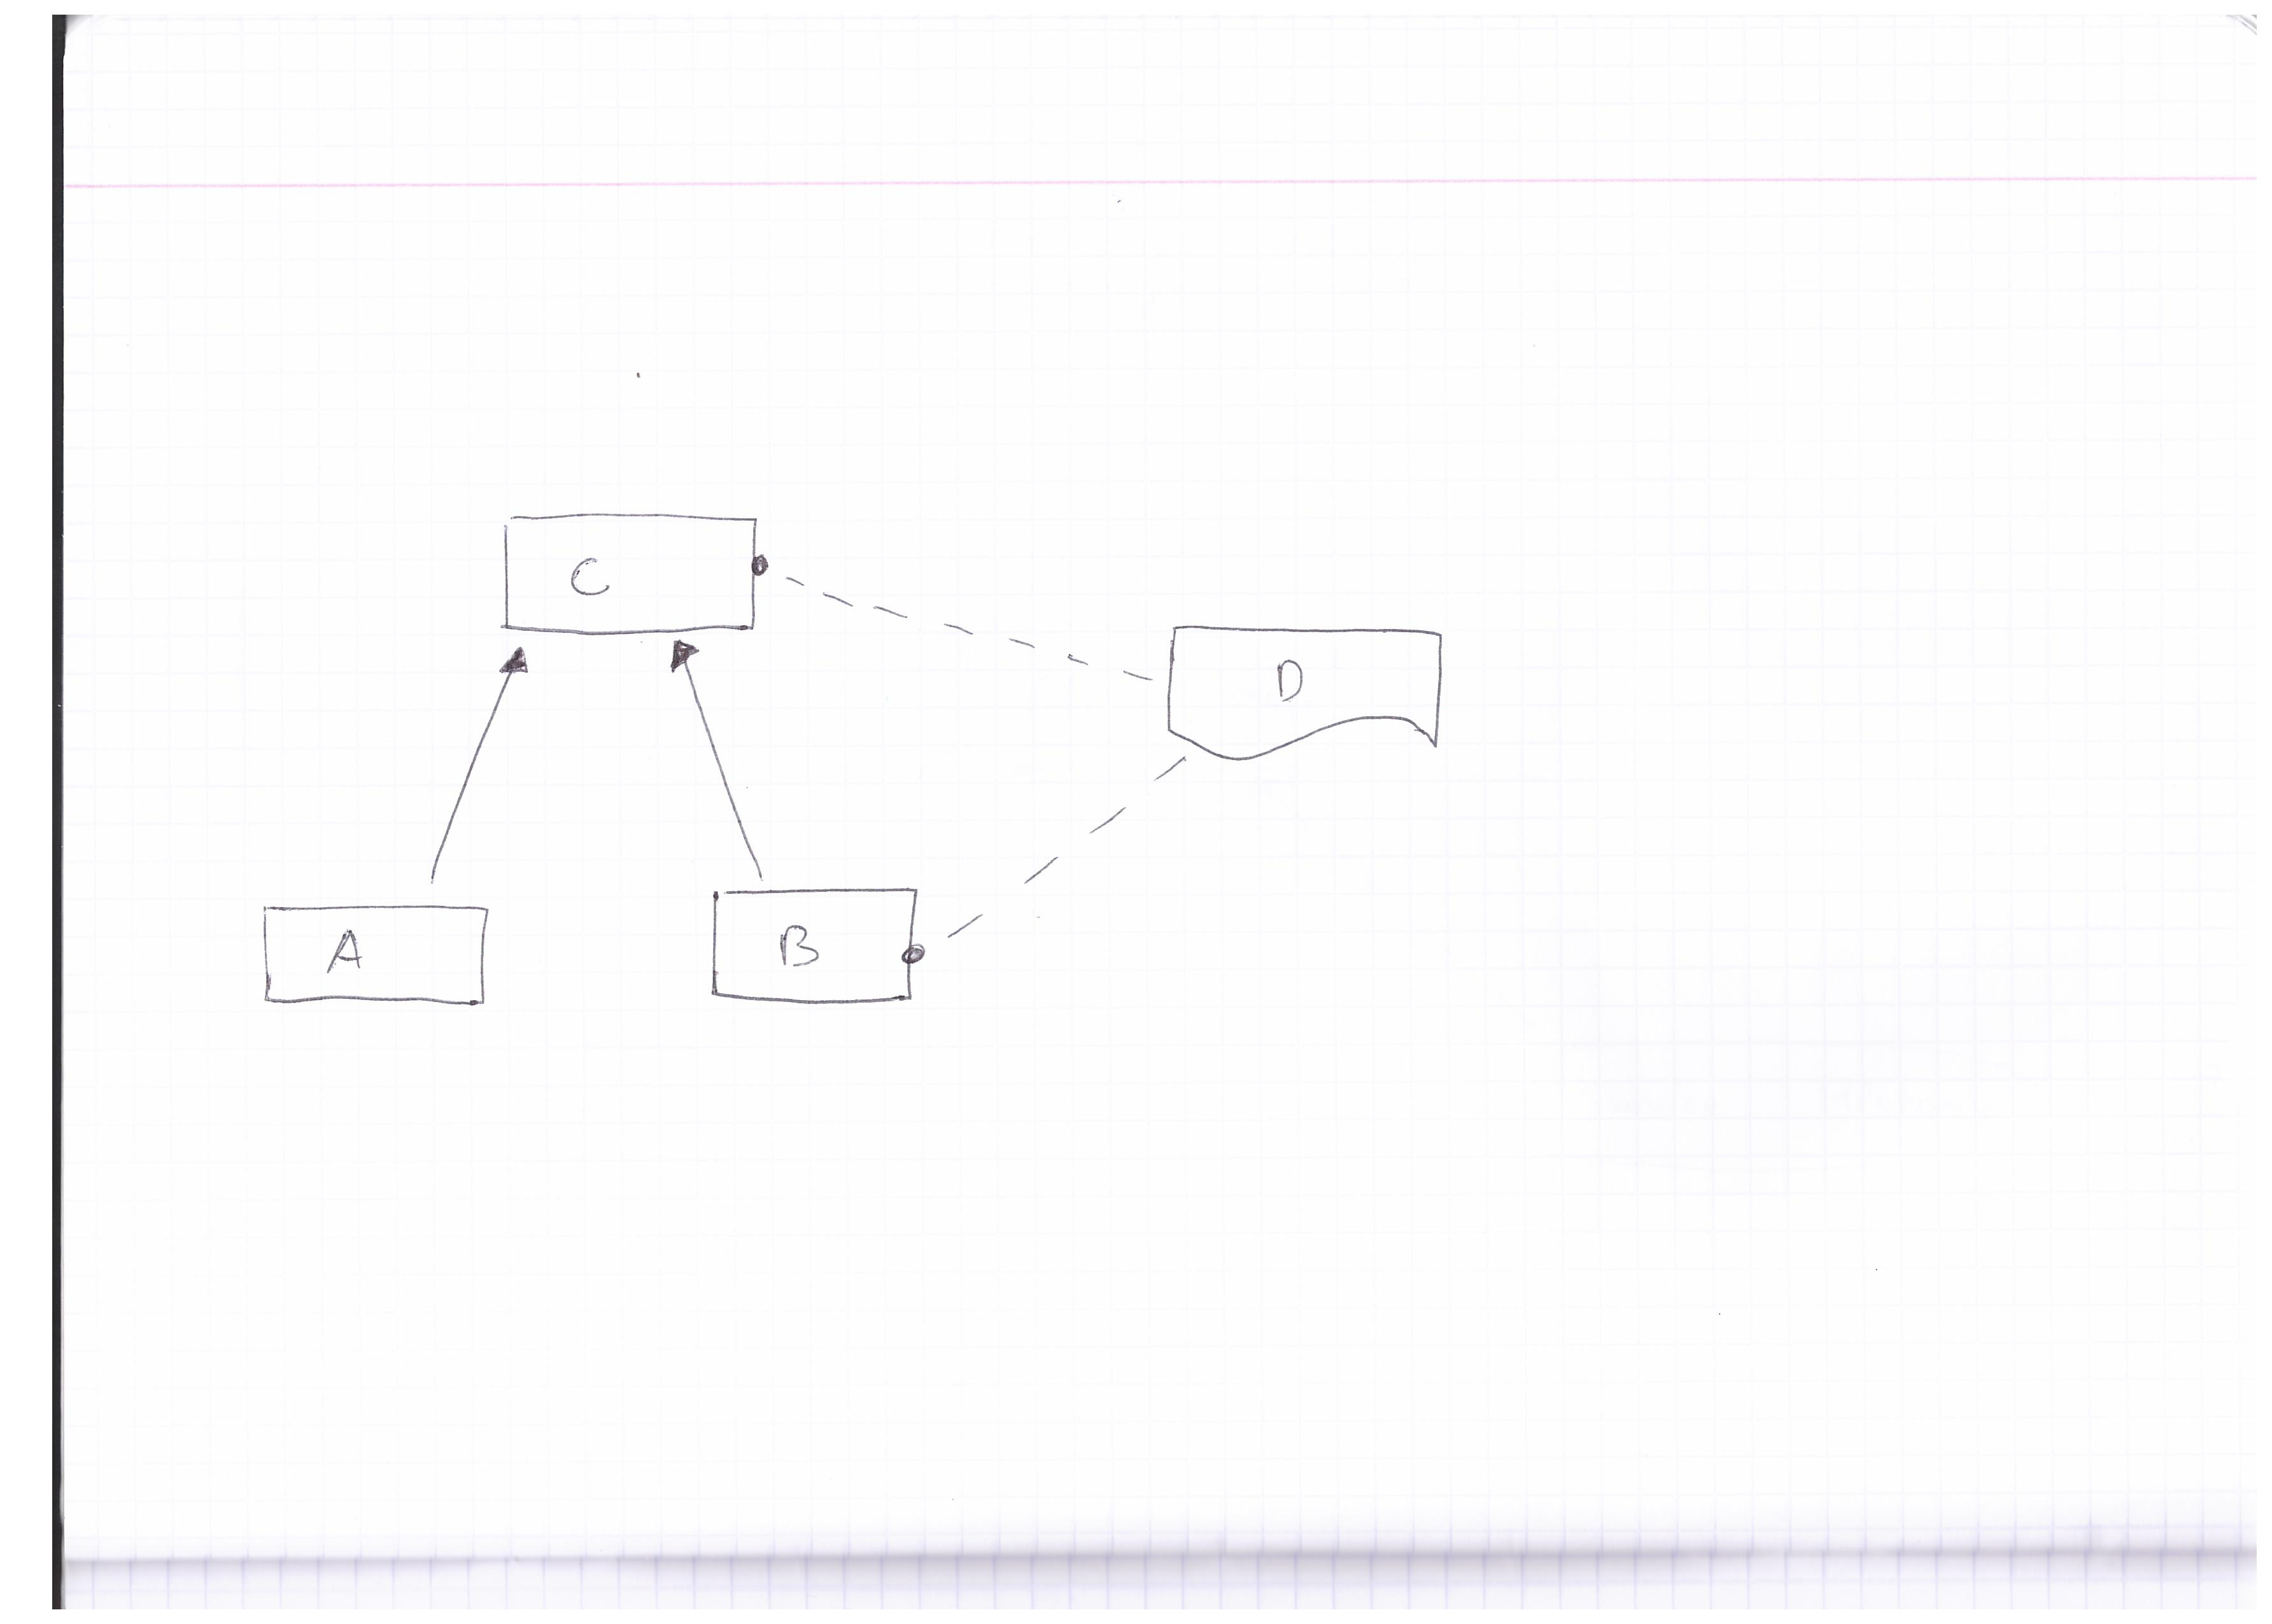arrow_authority_requirement: (898, 749, 1195, 970), (750, 550, 1167, 694)
arrow_information_requirement: (392, 640, 541, 891), (650, 636, 794, 888)
node_decision: (497, 508, 761, 638), (250, 889, 494, 1023), (703, 882, 931, 1012)
node_knowledge_source: (1161, 615, 1455, 768)
text: (555, 545, 633, 613), (1253, 652, 1327, 721), (763, 916, 833, 984), (316, 917, 385, 986)
